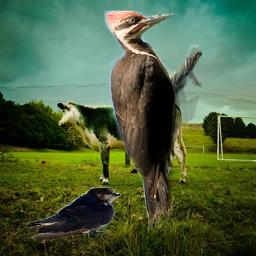Swallow: (26, 187, 122, 241)
Woodpecker: (104, 10, 202, 230)
